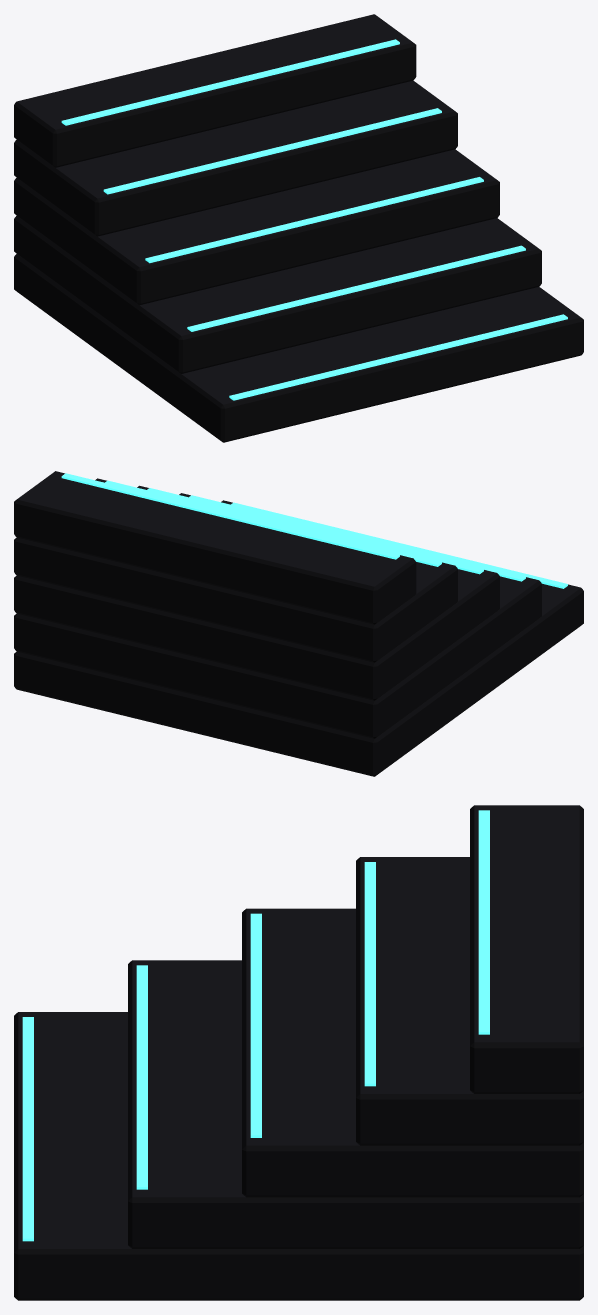
The model's file is SM_Stairs_Standard.glb.
3 renders of one model, top to bottom at view 1: azimuth 30°, elevation 25°; view 2: azimuth 150°, elevation 25°; view 3: azimuth 270°, elevation 25°, orthographic. The views are drawn at different scales.
Visible parts, largest first — view 1: SM_Stairs_Standard; view 2: SM_Stairs_Standard; view 3: SM_Stairs_Standard.
Part boxes in pixels (x1,y1,x2,y2): SM_Stairs_Standard: [14, 14, 583, 442]; SM_Stairs_Standard: [14, 471, 583, 776]; SM_Stairs_Standard: [14, 805, 583, 1300].
Bounding box in the file's own units: 2 × 1.01 × 2.
Materials: 1 (1 with a texture image).
